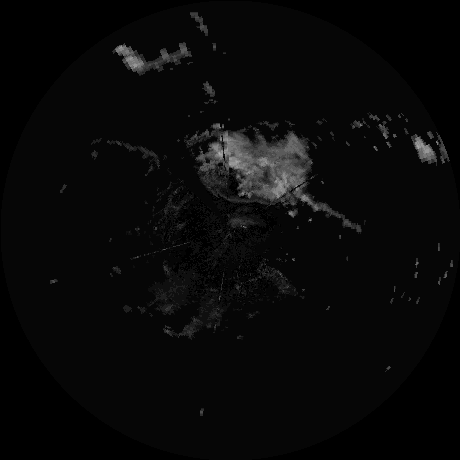frontgust: (201, 176, 272, 206)
